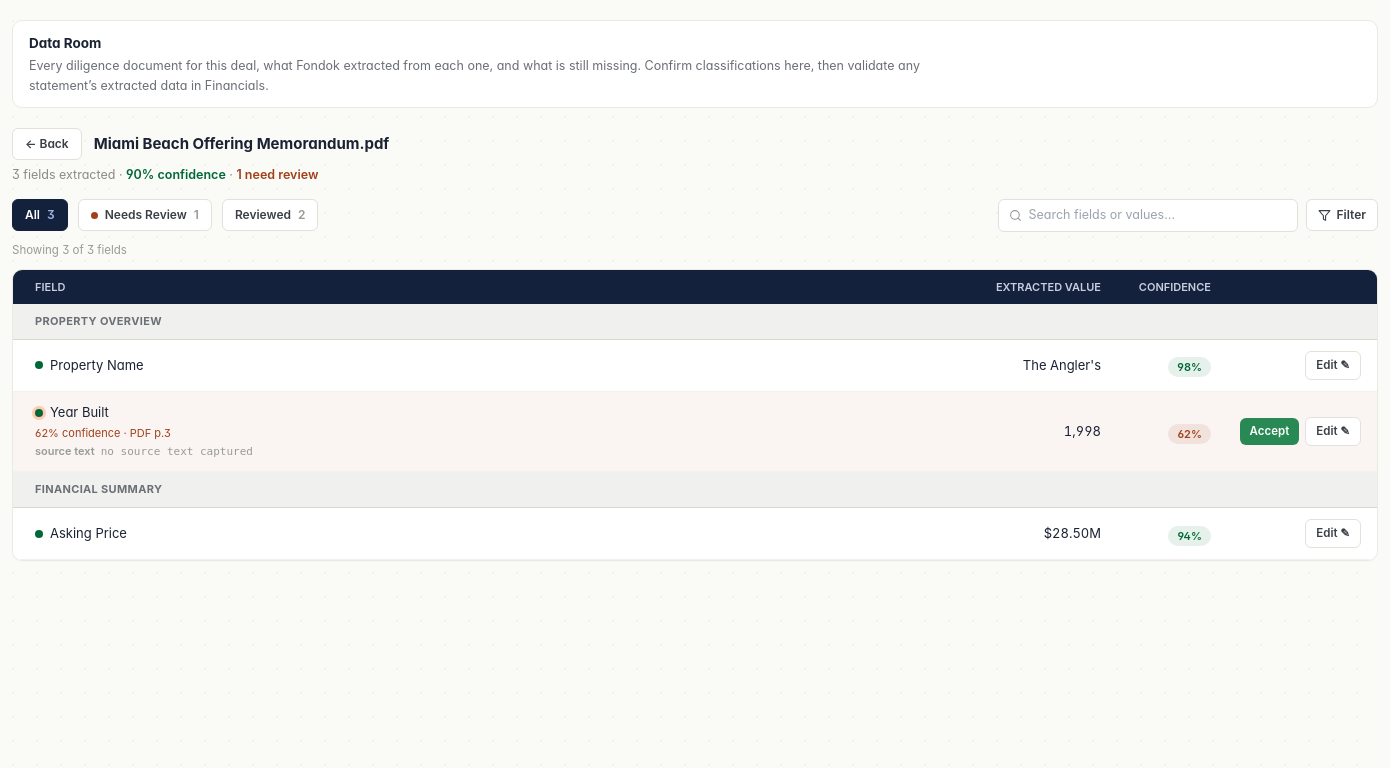
Test: Data Room — inline document review (isDetailView) › filters to only flagged rows when "Needs Review" is selected
What coordinates should you click on to do the following:
click the button "Needs Review 1"
I would click on:
 (145, 215)
Its box is [78,199,212,231].
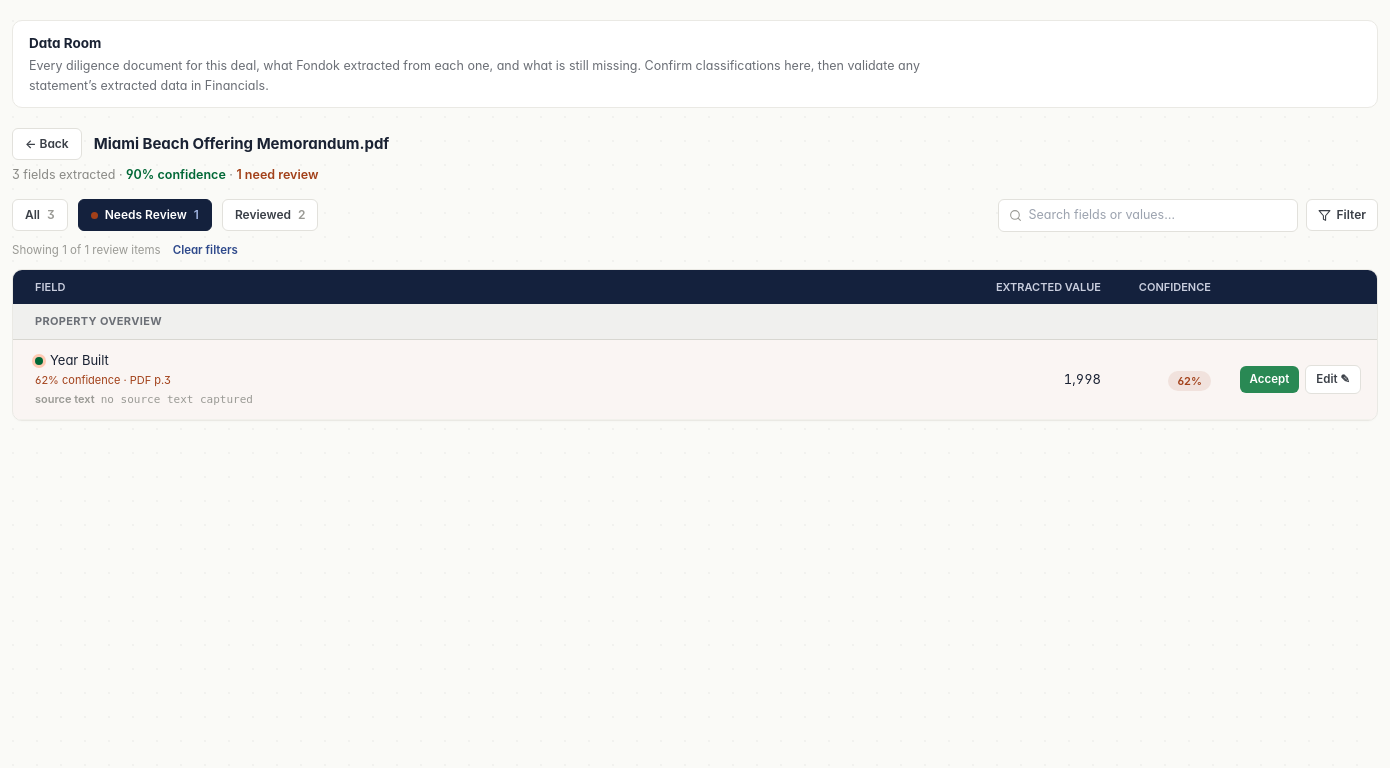
Expected: the text "Year Built" is shown, [35,352,109,368]
Expected: the text "Property Name" is gone
Expected: the text "Financial Summary" is gone
